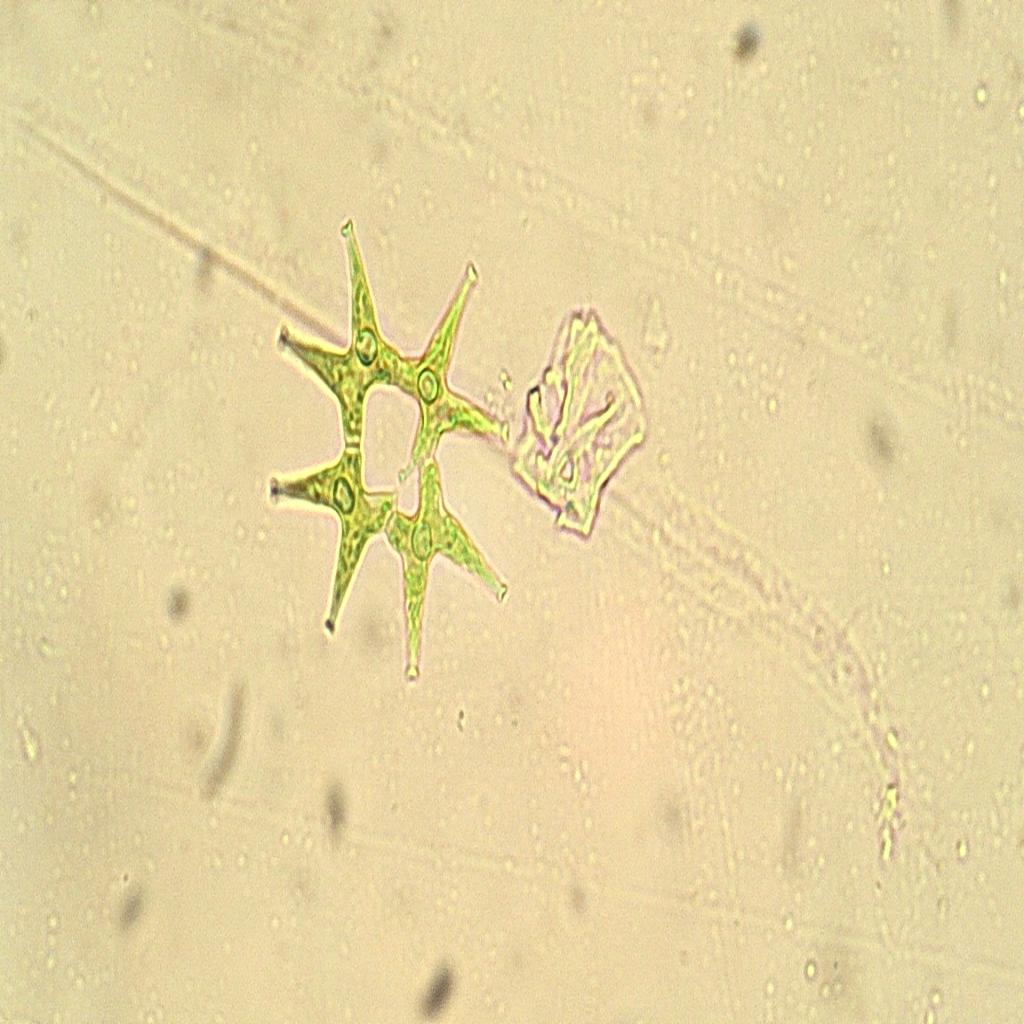Pediastrum_75FO: (253, 197, 535, 718)
